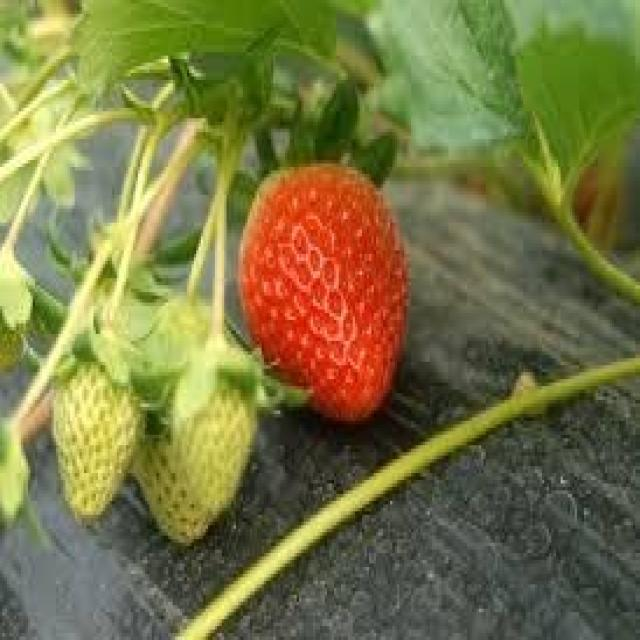immature: (53, 349, 140, 516), (172, 359, 255, 511)
mature: (238, 160, 412, 423)
